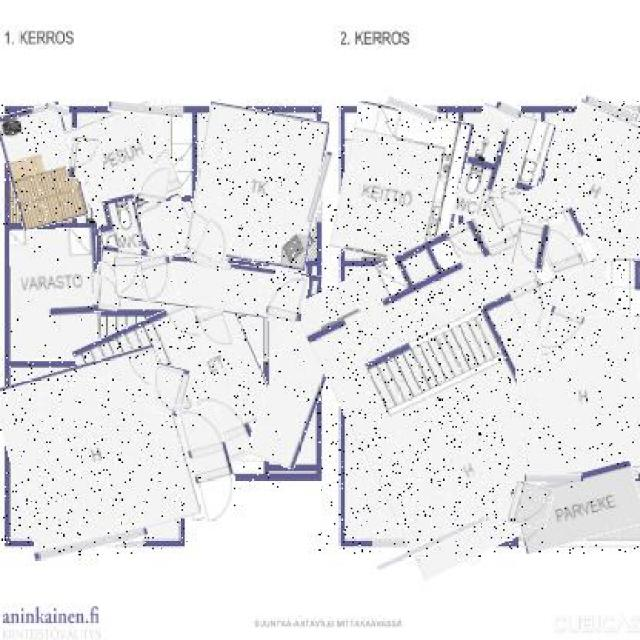door: (184, 404, 236, 522), (147, 364, 190, 416), (543, 222, 582, 276), (268, 270, 306, 322), (540, 308, 582, 355), (510, 483, 552, 528), (194, 220, 232, 269), (514, 222, 549, 269), (68, 138, 104, 182), (142, 254, 176, 300), (198, 308, 231, 349), (489, 190, 523, 228), (140, 164, 171, 202), (92, 277, 120, 312), (114, 257, 138, 294)
window: (376, 528, 492, 557), (32, 530, 148, 556), (310, 151, 328, 223), (584, 99, 640, 118), (386, 98, 439, 118), (108, 105, 183, 117), (494, 102, 521, 120), (525, 474, 583, 481), (45, 103, 69, 114)
zone: (318, 201, 640, 554), (86, 298, 279, 490), (0, 356, 191, 550), (190, 106, 324, 266), (337, 106, 468, 265), (514, 317, 640, 475), (532, 104, 640, 264), (97, 255, 321, 317), (71, 106, 177, 222), (257, 312, 332, 468), (11, 229, 100, 360), (458, 107, 550, 230), (514, 466, 640, 546), (2, 106, 80, 229), (135, 197, 197, 265), (95, 197, 143, 255)
